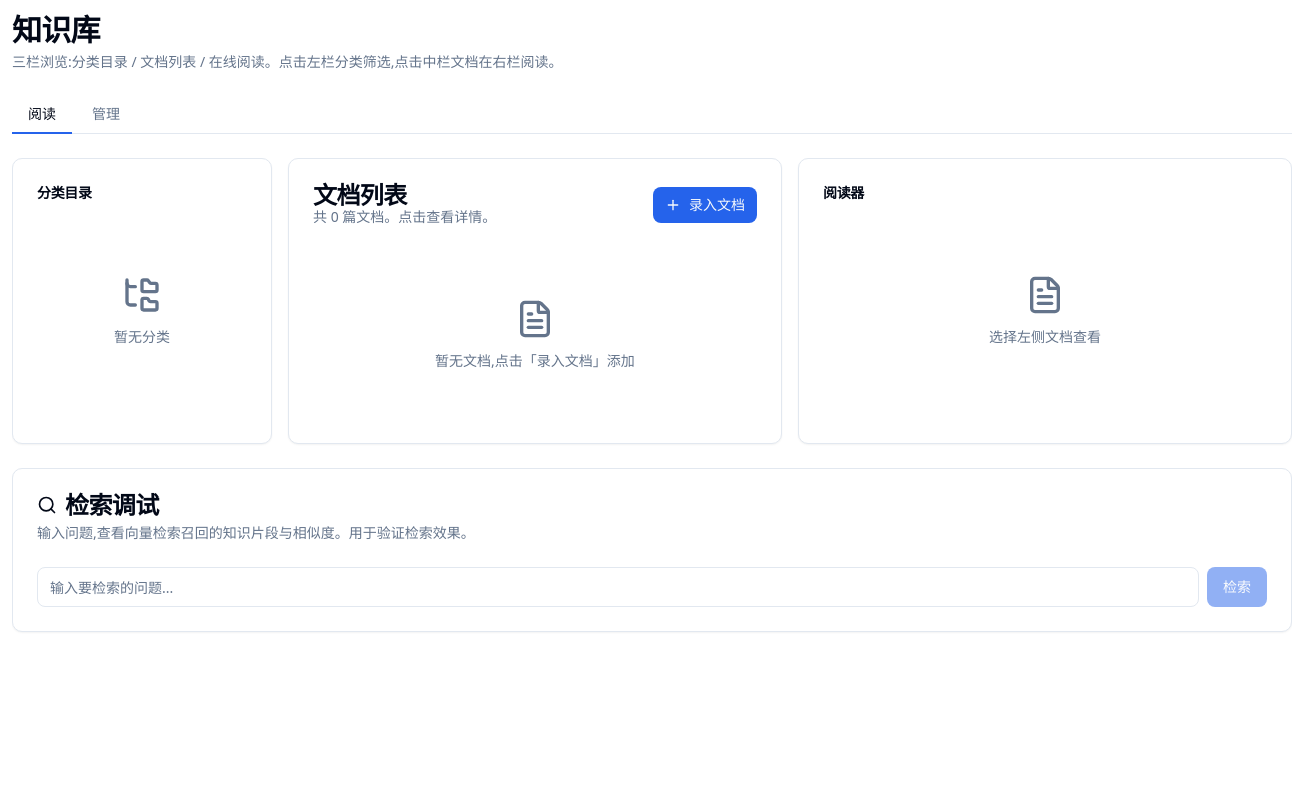
Scenario: KnowledgePage 顶层 Tabs(admin-ui slice 02 F1) › 切到管理 tab:渲染 AdminPanel(文档与发放子 tab)
The image size is (1292, 812).
Click the button "管理": (106, 115) [76,96,136,134]
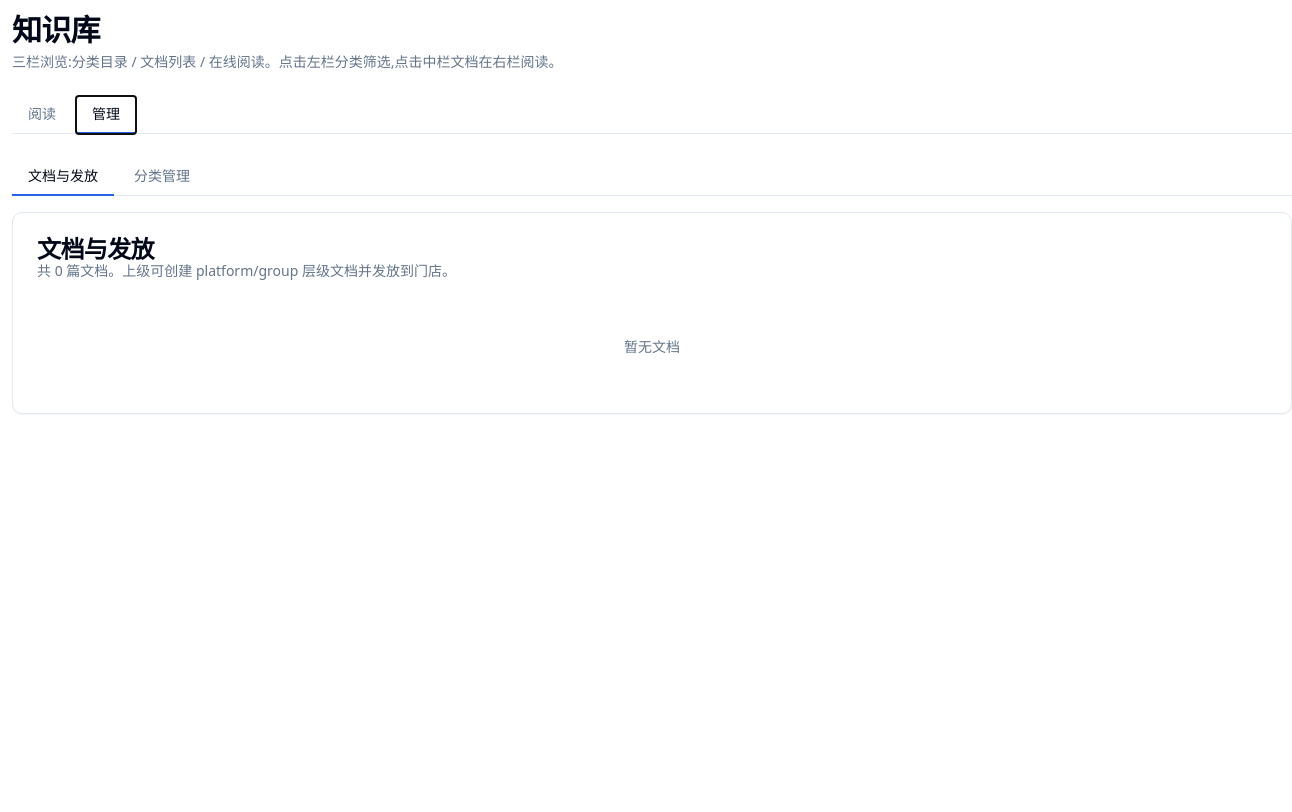
Check: the button "分类管理" is shown, box [118,158,206,196]
